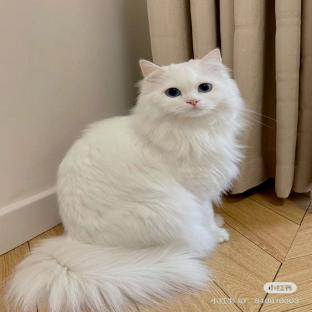Animal: (7, 49, 246, 312)
